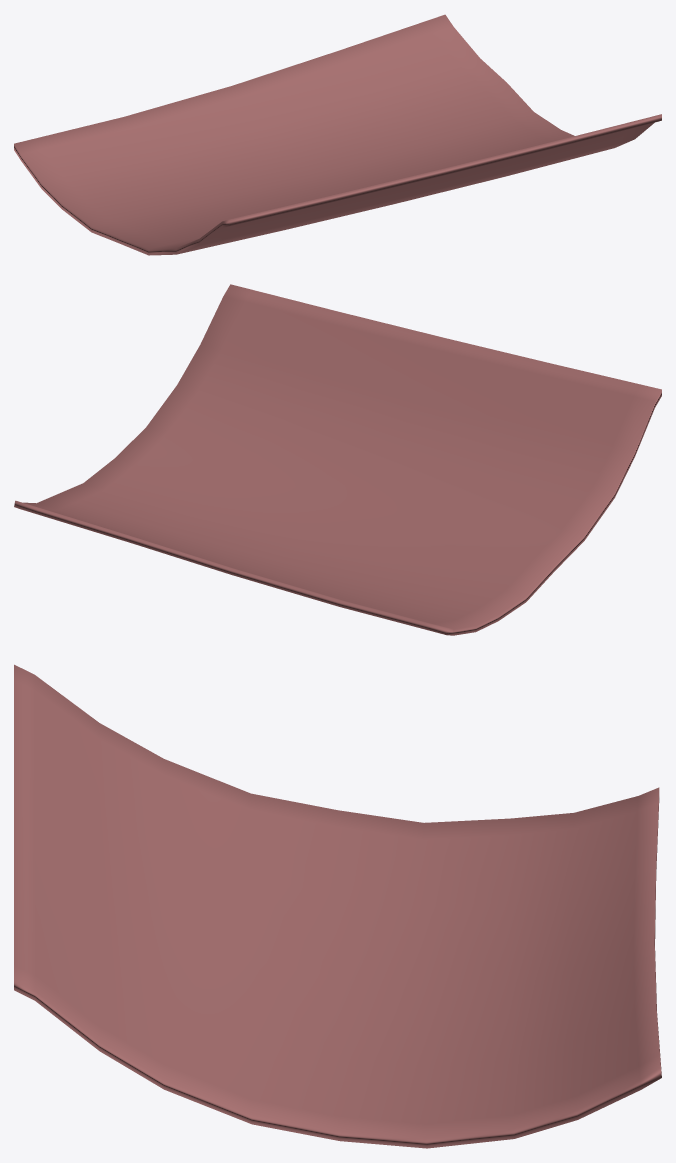
The model's file is Mod_Voile_LO_V1_JT.fbx.
3 renders of one model, top to bottom at view 1: azimuth 30°, elevation 25°; view 2: azimuth 150°, elevation 25°; view 3: azimuth 270°, elevation 25°, orthographic. The views are drawn at different scales.
Visible parts, largest first — view 1: Voile_LO_V1; view 2: Voile_LO_V1; view 3: Voile_LO_V1.
Boxes of the visible parts, x1=… form: Voile_LO_V1: x1=14, y1=14, x2=661, y2=255; Voile_LO_V1: x1=14, y1=284, x2=661, y2=635; Voile_LO_V1: x1=14, y1=664, x2=661, y2=1148.
Bounding box in the file's own units: 359 × 88.9 × 300.
